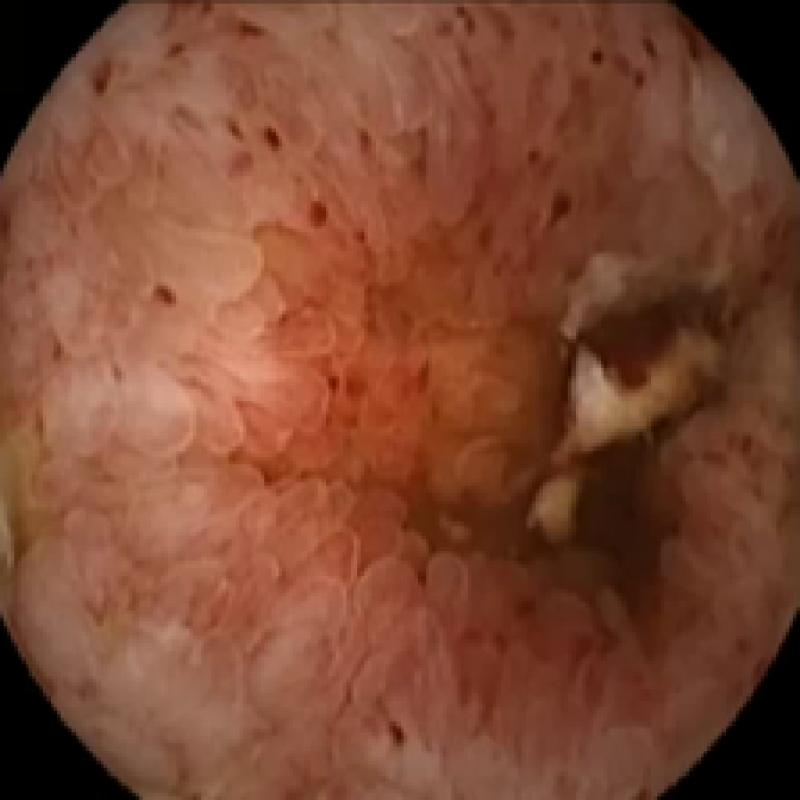bleeding: (494, 282, 718, 613), (668, 12, 706, 74), (236, 11, 282, 43), (540, 189, 573, 231), (251, 113, 283, 156), (146, 270, 176, 315), (88, 56, 114, 104), (308, 189, 330, 235)
